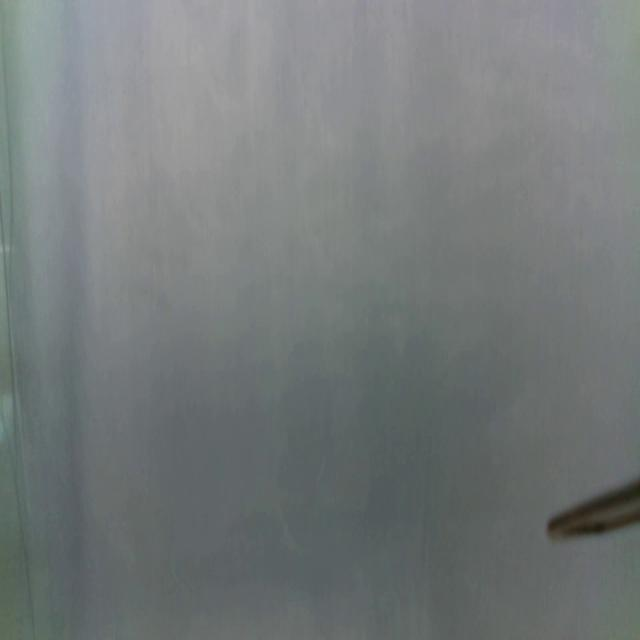crease: (2, 38, 37, 639)
